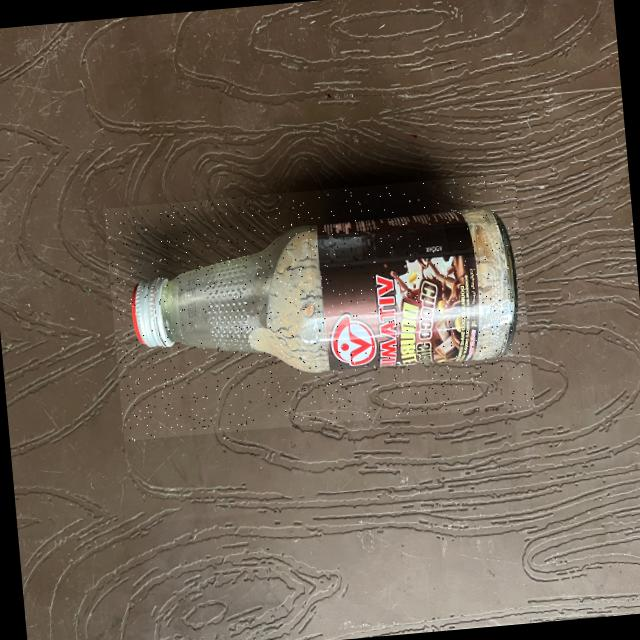REJECT: (103, 172, 534, 441)
